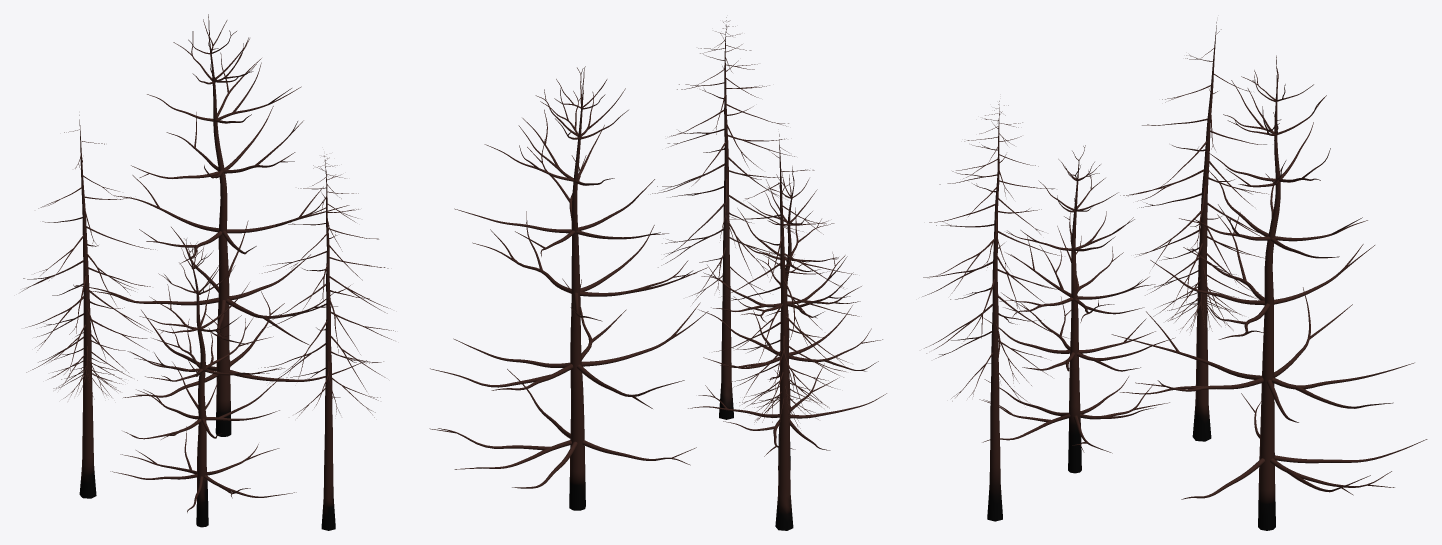
Rendered from tree (1).glb.
3 renders of one model, left to right at view 1: azimuth 30°, elevation 25°; view 2: azimuth 150°, elevation 25°; view 3: azimuth 270°, elevation 25°, orthographic. The views are drawn at different scales.
Visible parts, largest first — view 1: tree.001, tree, tree.003, tree.002; view 2: tree.001, tree.003, tree.002, tree; view 3: tree.001, tree, tree.003, tree.002.
Part boxes in pixels (<box>): tree.001: <box>75,14,366,436</box>; tree: <box>110,238,296,527</box>; tree.003: <box>20,115,155,498</box>; tree.002: <box>261,154,395,530</box>; tree.001: <box>429,66,708,510</box>; tree.003: <box>714,134,859,530</box>; tree.002: <box>650,17,803,419</box>; tree: <box>688,166,886,469</box>; tree.001: <box>1111,55,1427,530</box>; tree: <box>979,145,1175,473</box>; tree.003: <box>1120,22,1268,441</box>; tree.002: <box>922,101,1068,521</box>.
Bounding box in the file's own units: 3.18 × 3.88 × 3.84.
